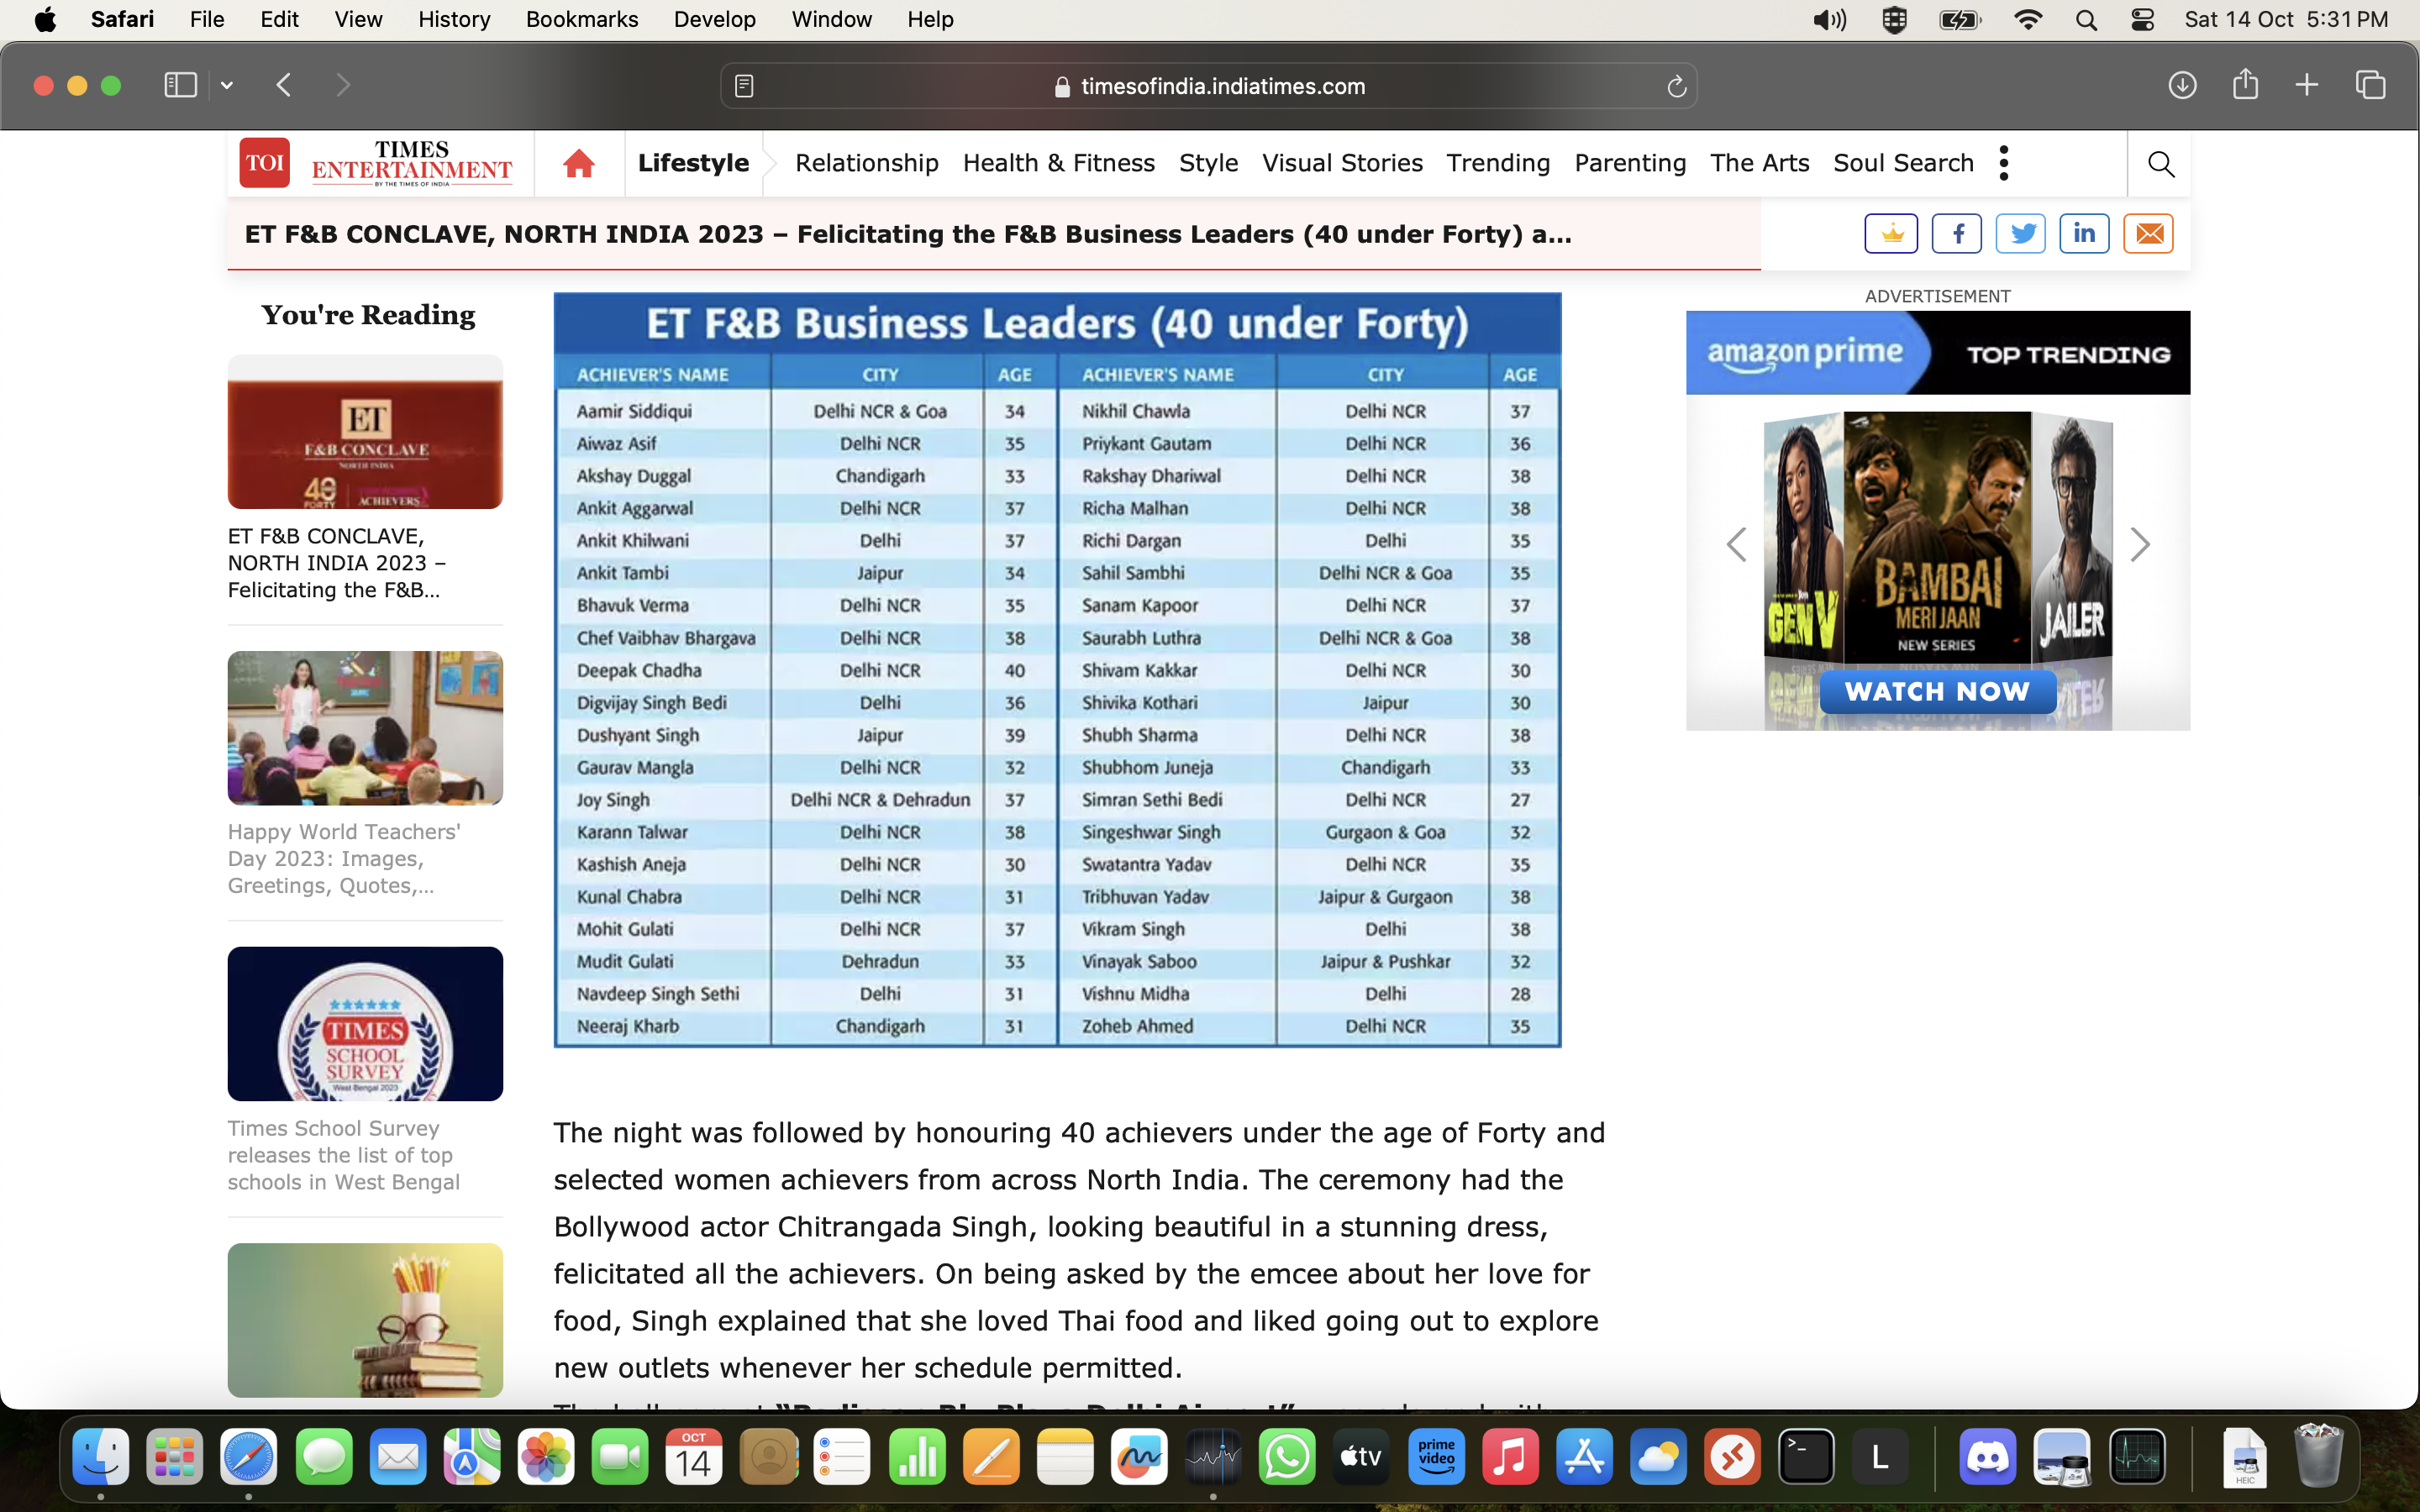Image: (1685, 399, 2171, 732), (233, 942, 500, 1104), (230, 658, 509, 812), (226, 1245, 497, 1399), (226, 366, 500, 516)
Paragraph: (549, 1104, 1615, 1392), (237, 209, 1587, 256), (632, 289, 1491, 354), (223, 812, 479, 918), (216, 512, 463, 618), (220, 1115, 479, 1209), (1697, 319, 1911, 399), (965, 139, 1162, 190), (246, 296, 490, 333), (1967, 333, 2187, 373), (1268, 139, 1429, 193), (789, 139, 943, 183), (625, 139, 756, 190), (1828, 146, 1981, 186), (1572, 136, 1692, 183), (1451, 139, 1561, 183), (1711, 146, 1817, 186), (1178, 146, 1242, 183)
